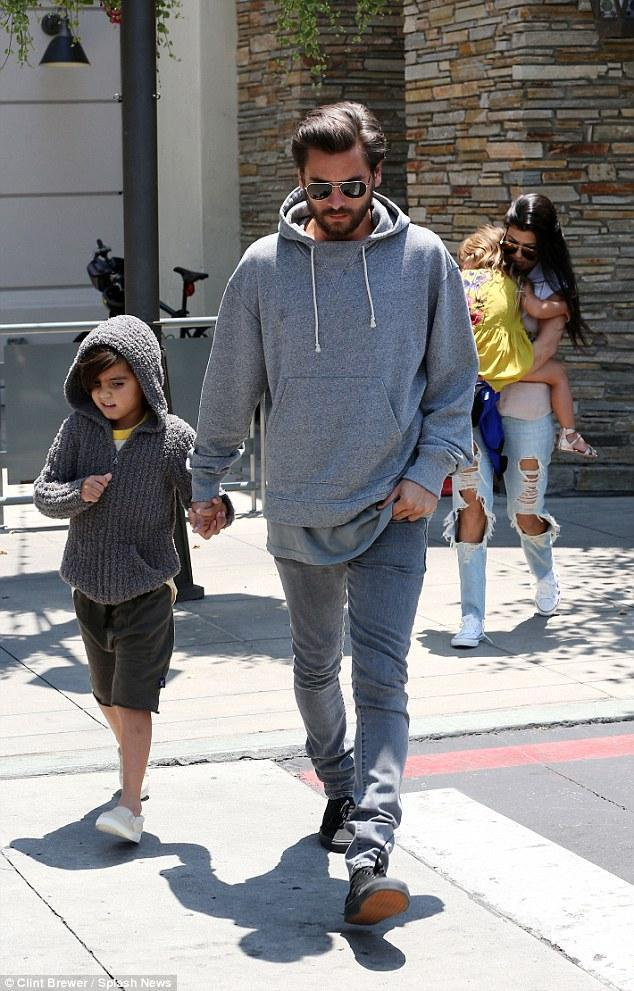Person: (197, 101, 477, 923), (34, 314, 194, 844), (462, 194, 590, 645)
